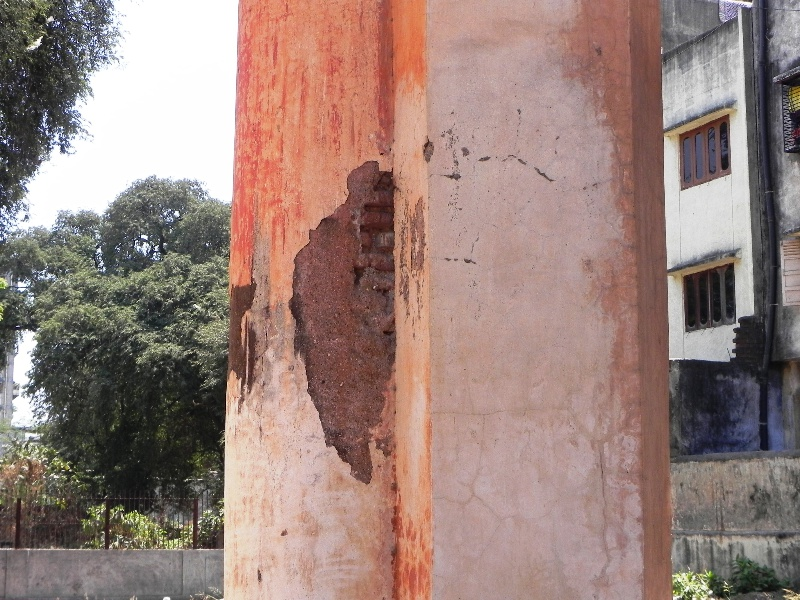Exposed Bricks: (358, 176, 395, 287)
Spalling: (289, 151, 402, 491), (225, 274, 263, 396)
